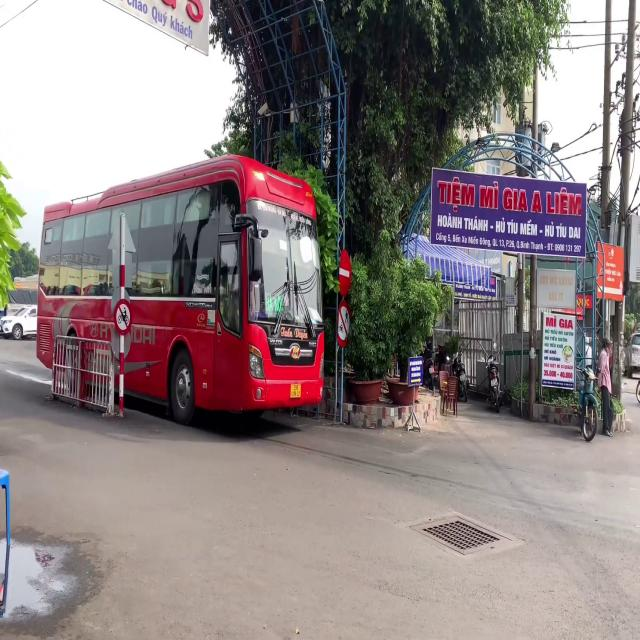bien_vang: (290, 383, 302, 399)
